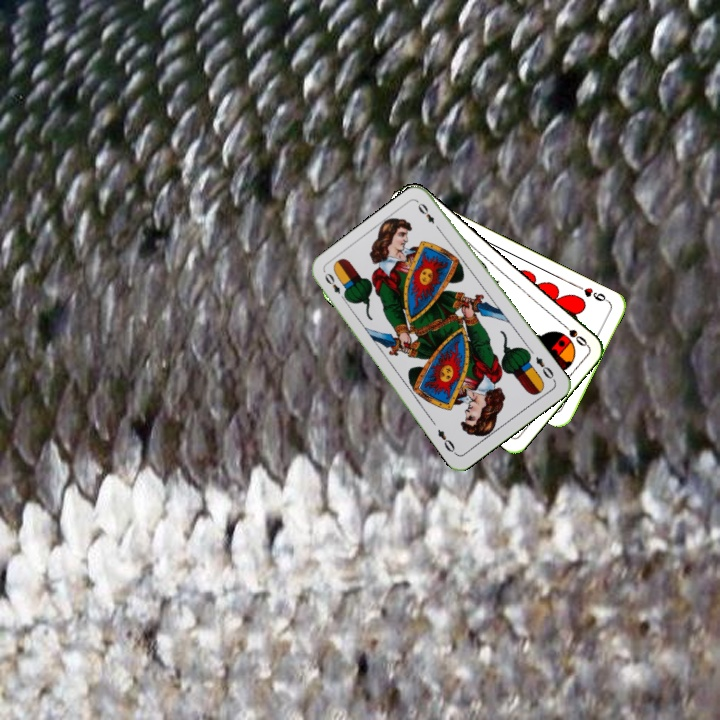EO: (320, 269, 349, 304), (531, 352, 556, 382)
H9: (580, 283, 612, 305)
SO: (556, 318, 590, 349)
